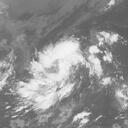cyclone: (16, 37, 86, 113)
